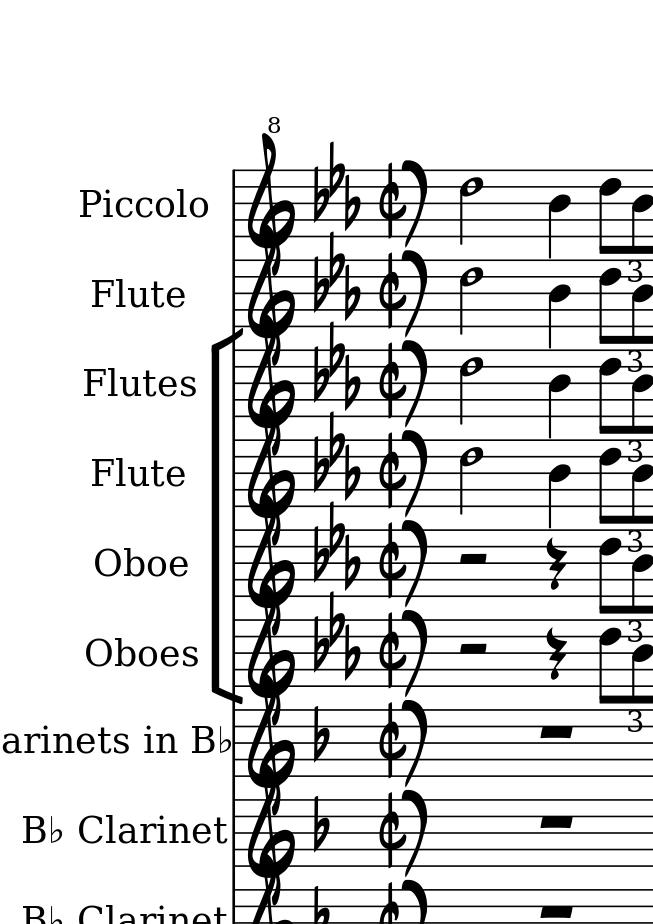8: (266, 113, 283, 138)
Flat: (311, 793, 330, 853), (311, 705, 330, 762)
Rests1: (536, 809, 579, 831), (533, 723, 575, 744), (537, 903, 581, 919)
Rests2: (458, 550, 491, 571), (458, 641, 487, 658)
Rests4: (546, 626, 568, 682), (545, 536, 566, 591)
